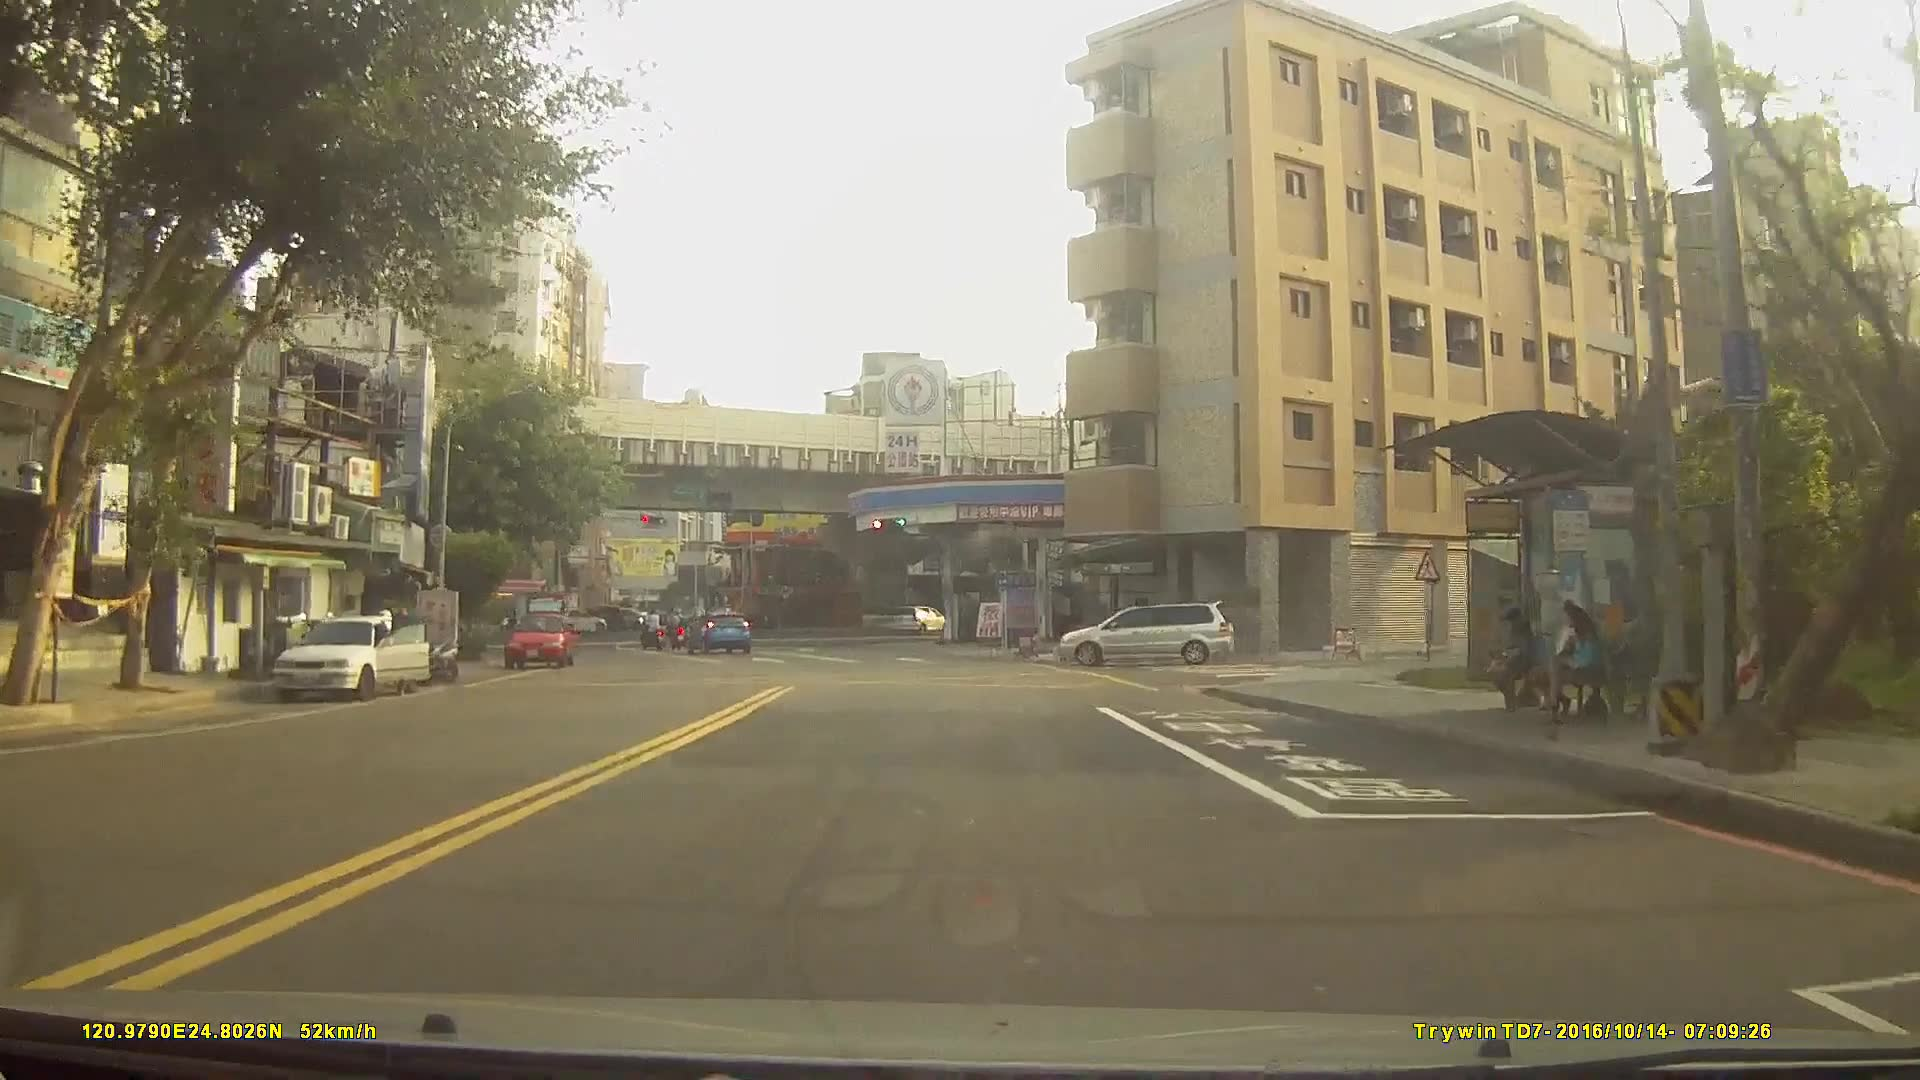pedestrian: (1489, 607, 1546, 710), (1555, 597, 1602, 719)
rider: (638, 608, 668, 652)
vehicle: (267, 610, 433, 700), (1052, 600, 1235, 664), (500, 607, 571, 665), (680, 610, 753, 655), (887, 601, 946, 631), (570, 601, 627, 631), (543, 605, 607, 632)
